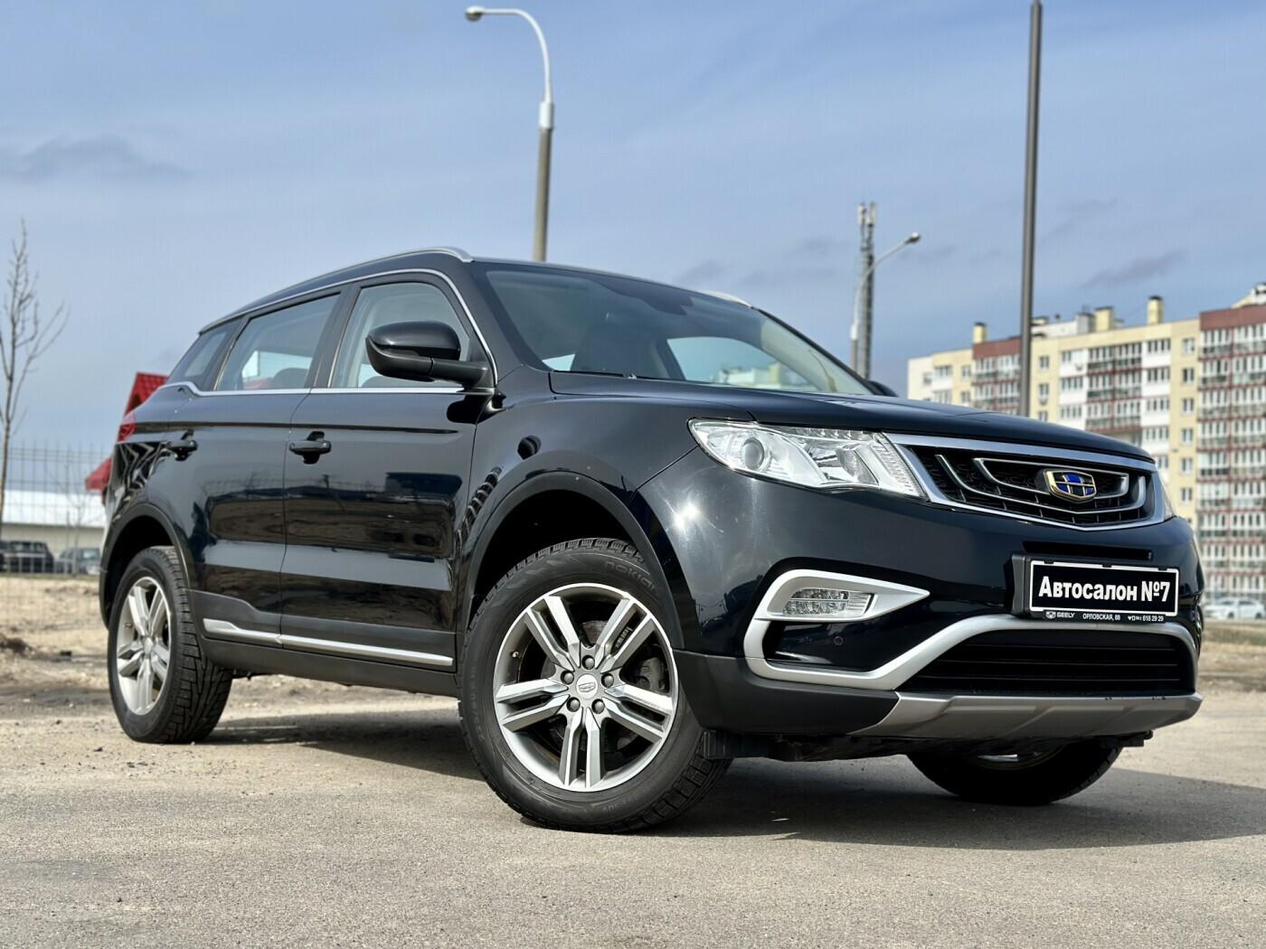Atlas_2016-2023: (97, 250, 1217, 844)
